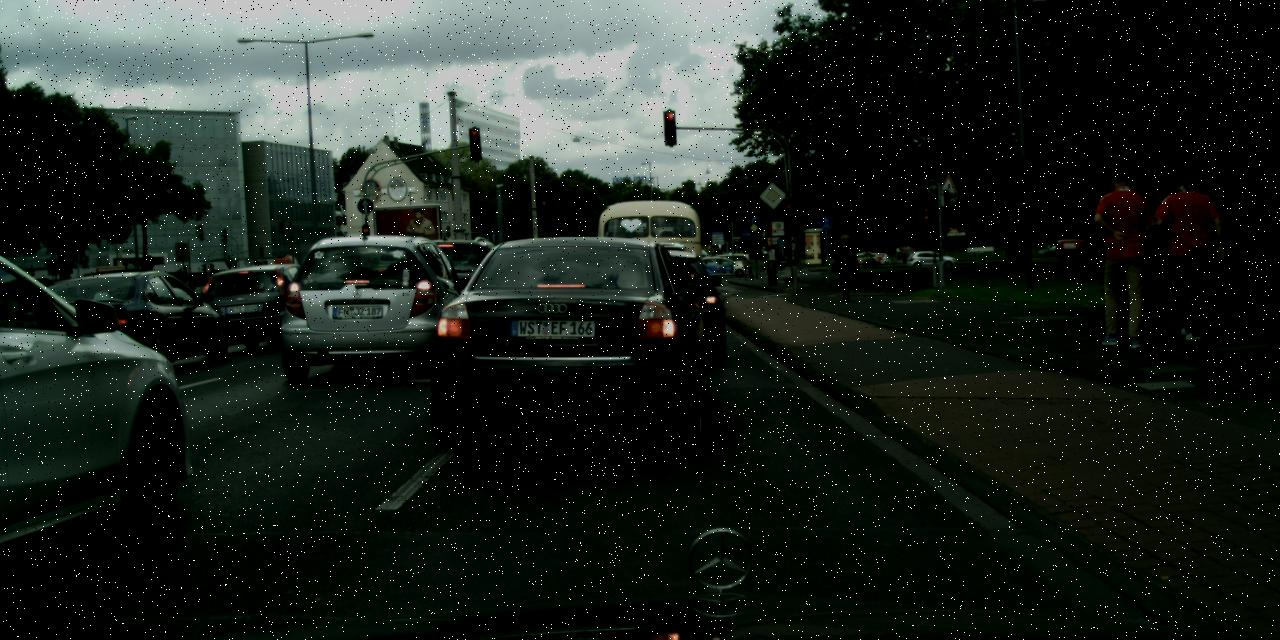ped: (1086, 166, 1160, 345), (1155, 172, 1222, 336), (831, 233, 859, 300), (893, 242, 916, 263), (741, 256, 750, 278)
